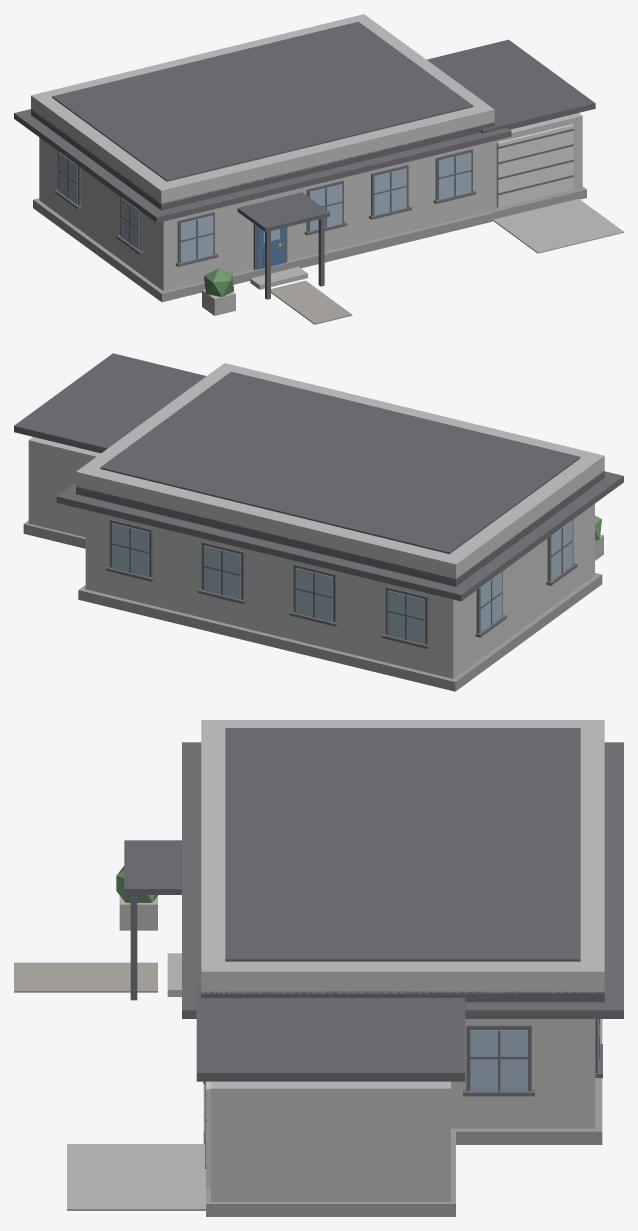
The model's file is Villa_02.glb.
The picture shows the model from 3 angles, top to bottom: view 1: azimuth 30°, elevation 25°; view 2: azimuth 150°, elevation 25°; view 3: azimuth 270°, elevation 25°; orthographic projection. The views are drawn at different scales.
Parts seen in each view (by area): view 1: Villa_02; view 2: Villa_02; view 3: Villa_02.
Boxes of the visible parts, left/top/right/bottom form: Villa_02: left=14, top=14, right=623, bottom=324; Villa_02: left=14, top=353, right=623, bottom=691; Villa_02: left=14, top=720, right=623, bottom=1216.
Size of the model in its own units: 16.5 by 4.05 by 12.7.
